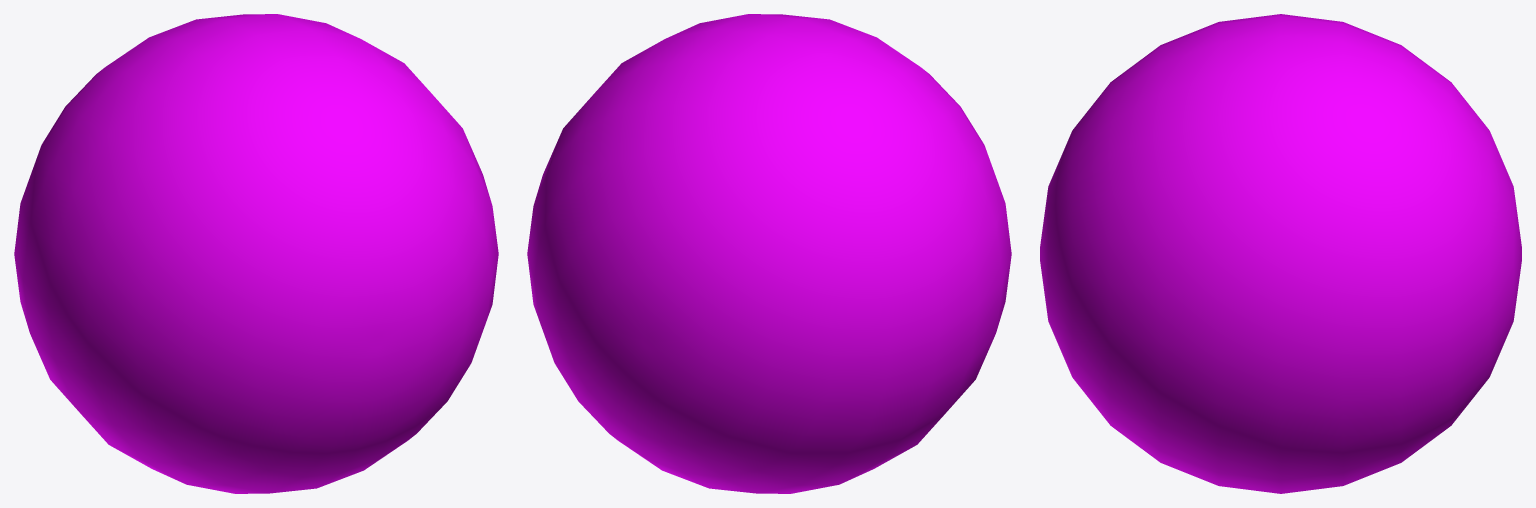
The model's file is credit.fbx.
The picture shows the model from 3 angles, left to right: view 1: azimuth 30°, elevation 25°; view 2: azimuth 150°, elevation 25°; view 3: azimuth 270°, elevation 25°; orthographic projection.
Parts seen in each view (by area): view 1: sphere; view 2: sphere; view 3: sphere.
Part boxes in pixels (x1,y1,x2,y2): sphere: [14, 14, 498, 493]; sphere: [527, 14, 1011, 493]; sphere: [1040, 14, 1521, 493].
Size of the model in its own units: 3 by 3 by 3.
